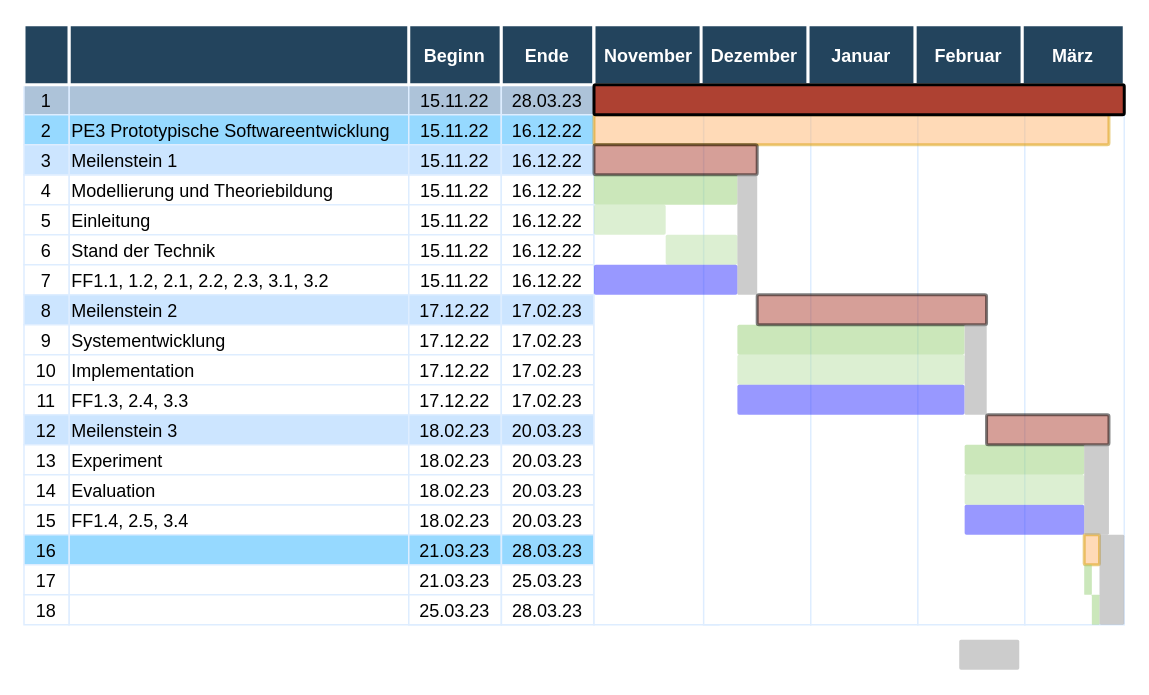
Image size: 1149x695. Some labels were removed from this diagram. Here are the shapes that lost their labels. From the top down, the box of each, then its label:
(67, 22, 420, 86): Phase
(68, 83, 549, 115): Gesamtprojekt
(68, 533, 549, 565): PE4, Präsentation der Ergebnisse
(68, 563, 549, 595): Präsentation
(68, 593, 549, 625): Kolloquium
(1018, 639, 1108, 669): Pufferzeiten
